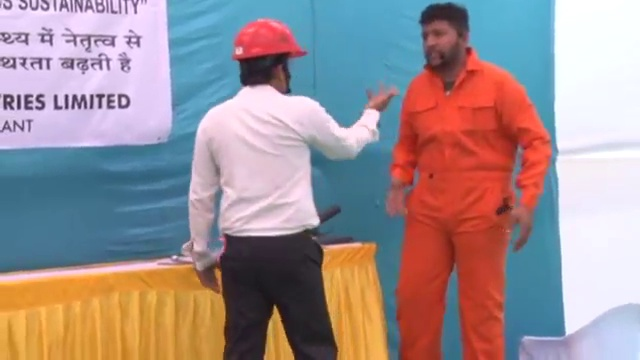helmet: (229, 15, 311, 62)
helmet_off: (420, 2, 469, 68)
helmet_on: (227, 13, 311, 97)
person: (185, 13, 397, 360), (387, 2, 552, 360)
